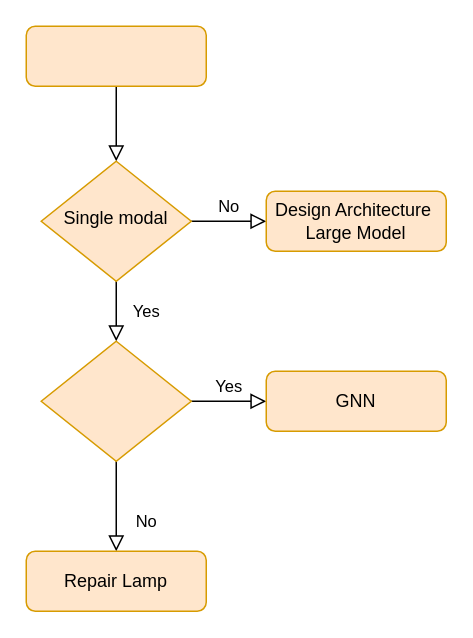
Some shapes in this 473 by 638 pixel diagram are drawn without their labels. Each missing label, with the centre of its shape:
data: the point at 115,55
Graph structure: the point at 115,400
